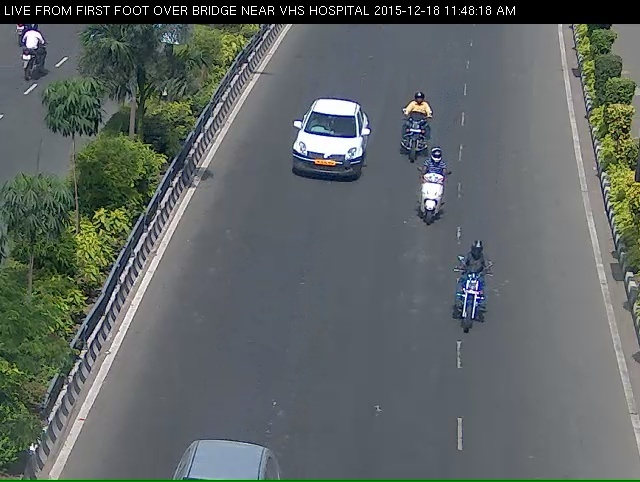Car: (284, 107, 364, 204)
Person: (454, 266, 489, 373), (419, 163, 445, 244), (400, 102, 426, 175)
